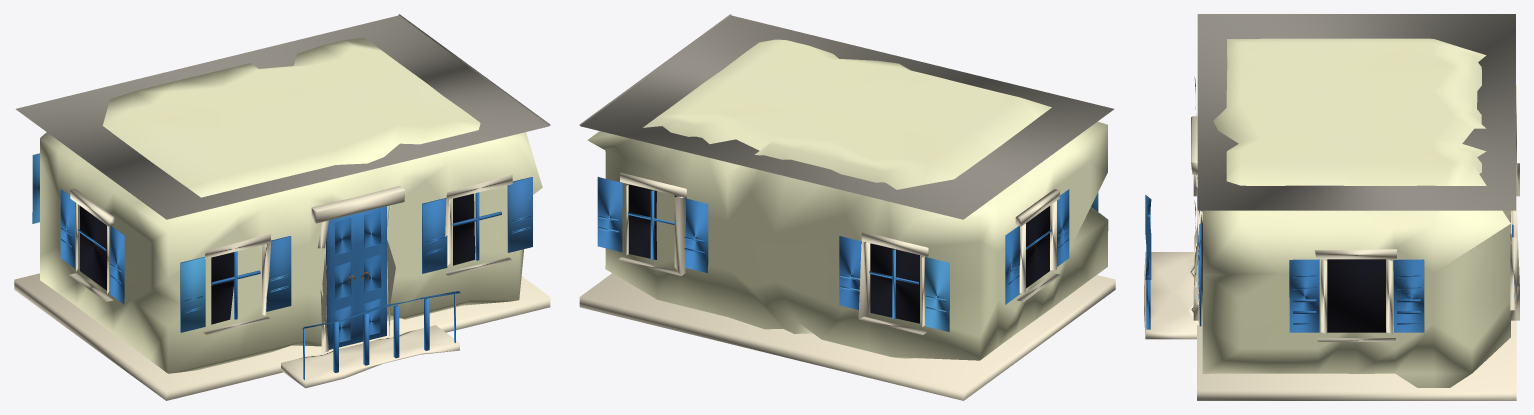
The model's file is home_villa-upper_t2_plaster.glb.
The picture shows the model from 3 angles, left to right: view 1: azimuth 30°, elevation 25°; view 2: azimuth 150°, elevation 25°; view 3: azimuth 270°, elevation 25°; orthographic projection. The views are drawn at different scales.
Parts seen in each view (by area): view 1: plaster, marble, cream, azure_wood, dark; view 2: plaster, marble, cream, azure_wood, dark; view 3: plaster, marble, cream, azure_wood, dark.
Part boxes in pixels (left/top/right/bottom): plaster: left=40, top=37, right=542, bottom=373; marble: left=15, top=14, right=550, bottom=219; cream: left=14, top=174, right=550, bottom=400; azure_wood: left=32, top=153, right=532, bottom=379; dark: left=80, top=193, right=475, bottom=324; plaster: left=587, top=39, right=1108, bottom=360; marble: left=579, top=14, right=1114, bottom=219; cream: left=579, top=172, right=1115, bottom=400; azure_wood: left=597, top=177, right=1098, bottom=331; dark: left=628, top=184, right=1049, bottom=323; plaster: left=1202, top=38, right=1510, bottom=387; marble: left=1197, top=14, right=1515, bottom=210; cream: left=1144, top=76, right=1519, bottom=400; azure_wood: left=1145, top=195, right=1515, bottom=332; dark: left=1201, top=215, right=1512, bottom=332.
Bounding box in the file's own units: 6.46 × 3.01 × 5.12.
